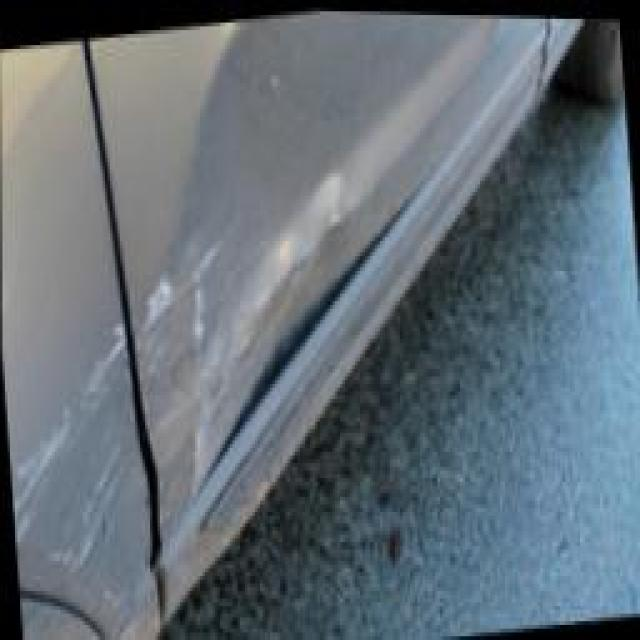Door: (120, 252, 291, 535)
Fender: (10, 358, 154, 640)
